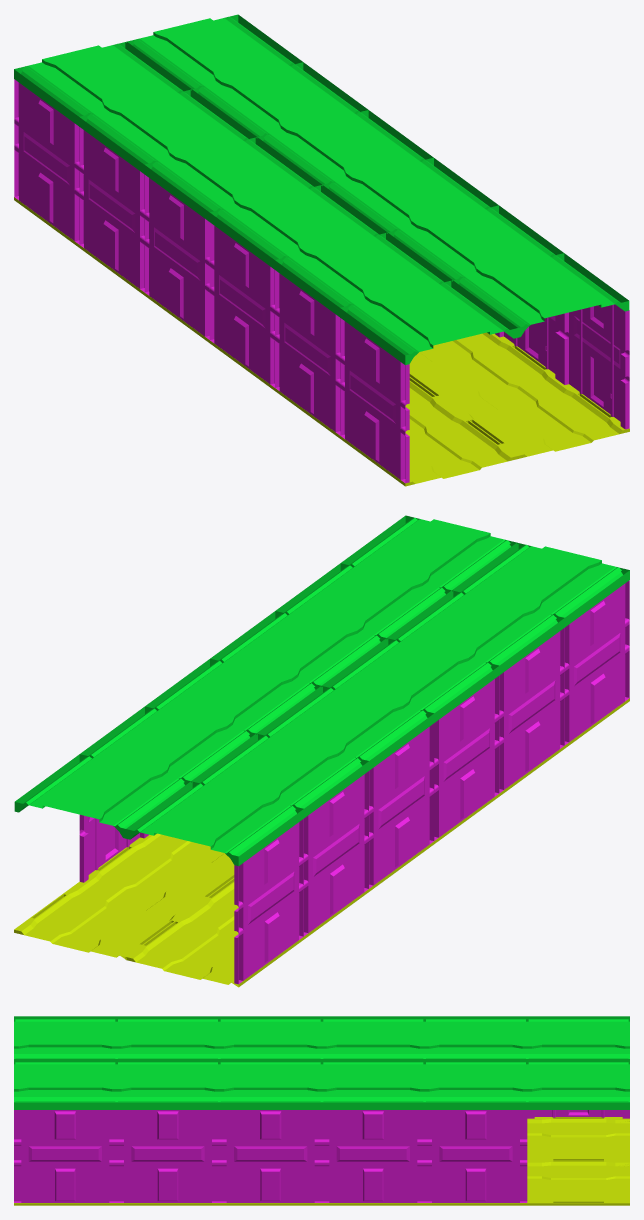
The model's file is proba2.fbx.
The picture shows the model from 3 angles, top to bottom: view 1: azimuth 30°, elevation 25°; view 2: azimuth 150°, elevation 25°; view 3: azimuth 270°, elevation 25°; orthographic projection. The views are drawn at different scales.
Parts seen in each view (by area): view 1: Plane.002, Plane.014, Plane.011, Plane.020, Plane.017, Plane.007, Plane.030, Plane.025, Plane.021, Plane.029, Plane.026, Plane.027 (+12 smaller); view 2: Plane.002, Plane.011, Plane.017, Plane.007, Plane.014, Plane.020, Plane.025, Plane.005, Plane.026, Plane.028, Plane.030, Plane.029 (+11 smaller); view 3: Plane.006, Plane.016, Plane.010, Plane.013, Plane.019, Plane.026, Plane.029, Plane.025, Plane.027, Plane.028, Plane.030, Plane.008 (+13 smaller).
Boxes of the visible parts, x1,y1,x2,y2 form: Plane.002: [14, 79, 83, 244]; Plane.014: [209, 222, 279, 387]; Plane.011: [144, 176, 214, 339]; Plane.020: [340, 319, 409, 483]; Plane.017: [275, 271, 344, 435]; Plane.007: [79, 127, 148, 292]; Plane.030: [451, 253, 629, 337]; Plane.025: [125, 14, 303, 92]; Plane.021: [340, 280, 517, 365]; Plane.029: [386, 205, 564, 284]; Plane.026: [190, 62, 368, 138]; Plane.027: [255, 110, 433, 188]; Plane.002: [234, 819, 303, 984]; Plane.011: [364, 723, 434, 888]; Plane.017: [495, 628, 564, 793]; Plane.007: [299, 771, 368, 936]; Plane.014: [429, 676, 499, 840]; Plane.020: [560, 580, 629, 745]; Plane.025: [14, 754, 192, 838]; Plane.005: [126, 781, 303, 866]; Plane.026: [79, 706, 257, 784]; Plane.028: [210, 611, 388, 687]; Plane.030: [340, 515, 518, 594]; Plane.029: [275, 563, 453, 641]; Plane.006: [424, 1110, 527, 1202]; Plane.016: [116, 1110, 219, 1202]; Plane.010: [322, 1110, 424, 1202]; Plane.013: [219, 1110, 321, 1202]; Plane.019: [14, 1110, 116, 1202]; Plane.026: [424, 1059, 527, 1109]; Plane.029: [116, 1059, 219, 1109]; Plane.025: [527, 1059, 629, 1109]; Plane.027: [322, 1059, 424, 1109]; Plane.028: [219, 1059, 321, 1109]; Plane.030: [14, 1059, 116, 1109]; Plane.008: [424, 1016, 527, 1064].
Bounding box in the file's own units: 611 × 345 × 1800.
